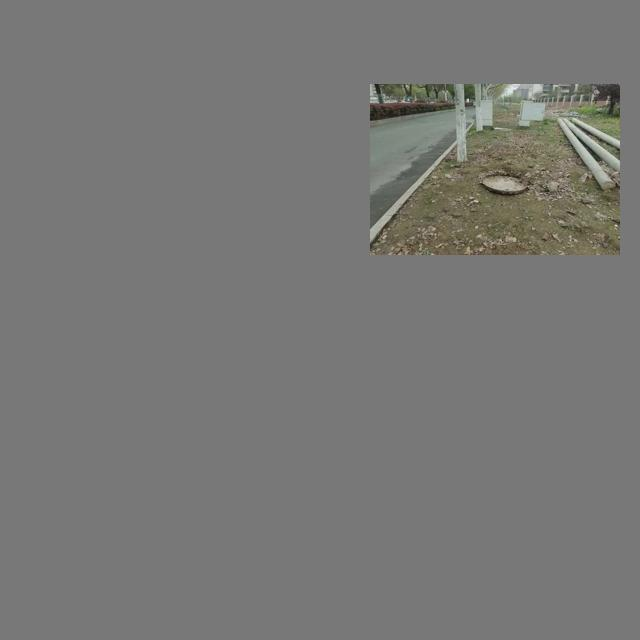uncovered: (483, 176, 528, 195)
